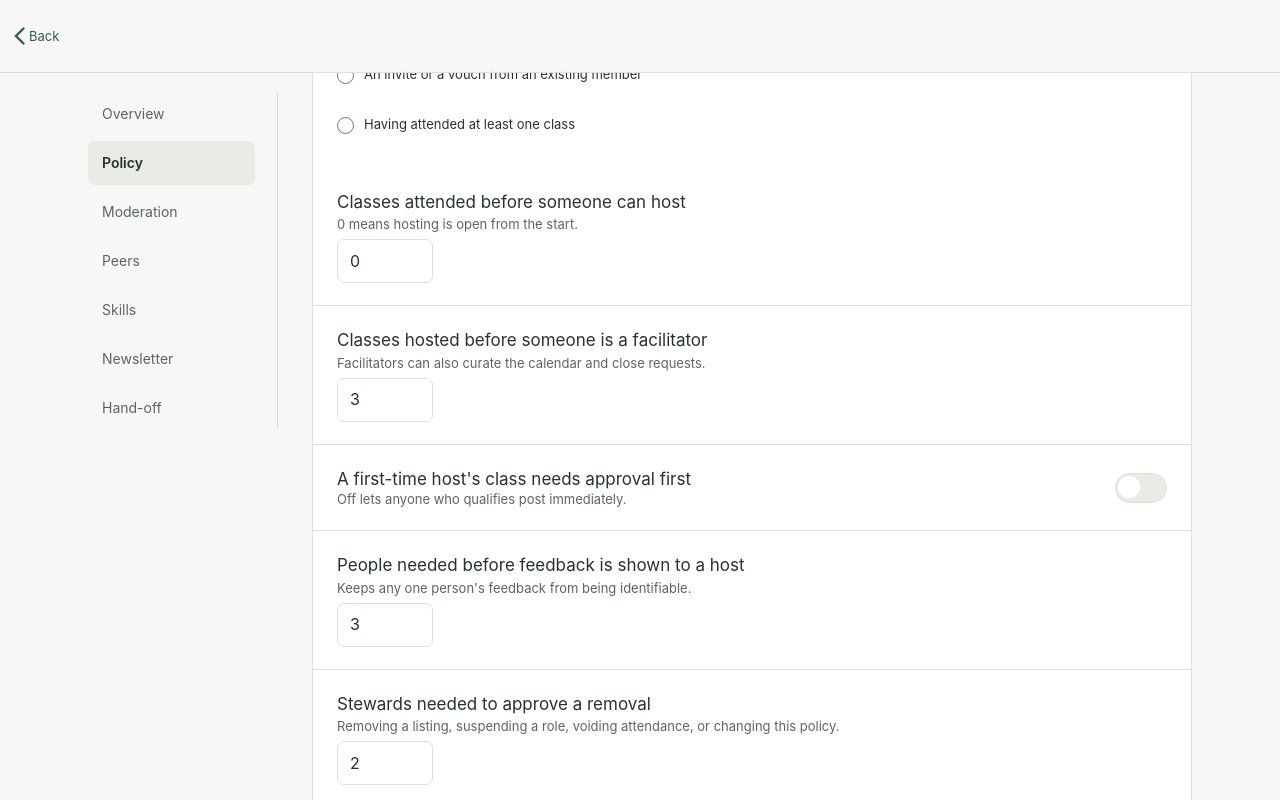
Test: PolicyScreen › round-trips the thresholds object from the server into the form and back out on save
(page scrolled)
Expected: the number field labelled "Classes attended before someone can host" holds "0", x1=337 y1=239 x2=433 y2=283
Change one threshold and save.
Replace the text in the number field labelled "Classes hosted before someone is a facilitator" with "5": (385, 400) x1=337 y1=378 x2=433 y2=422
(page scrolled)
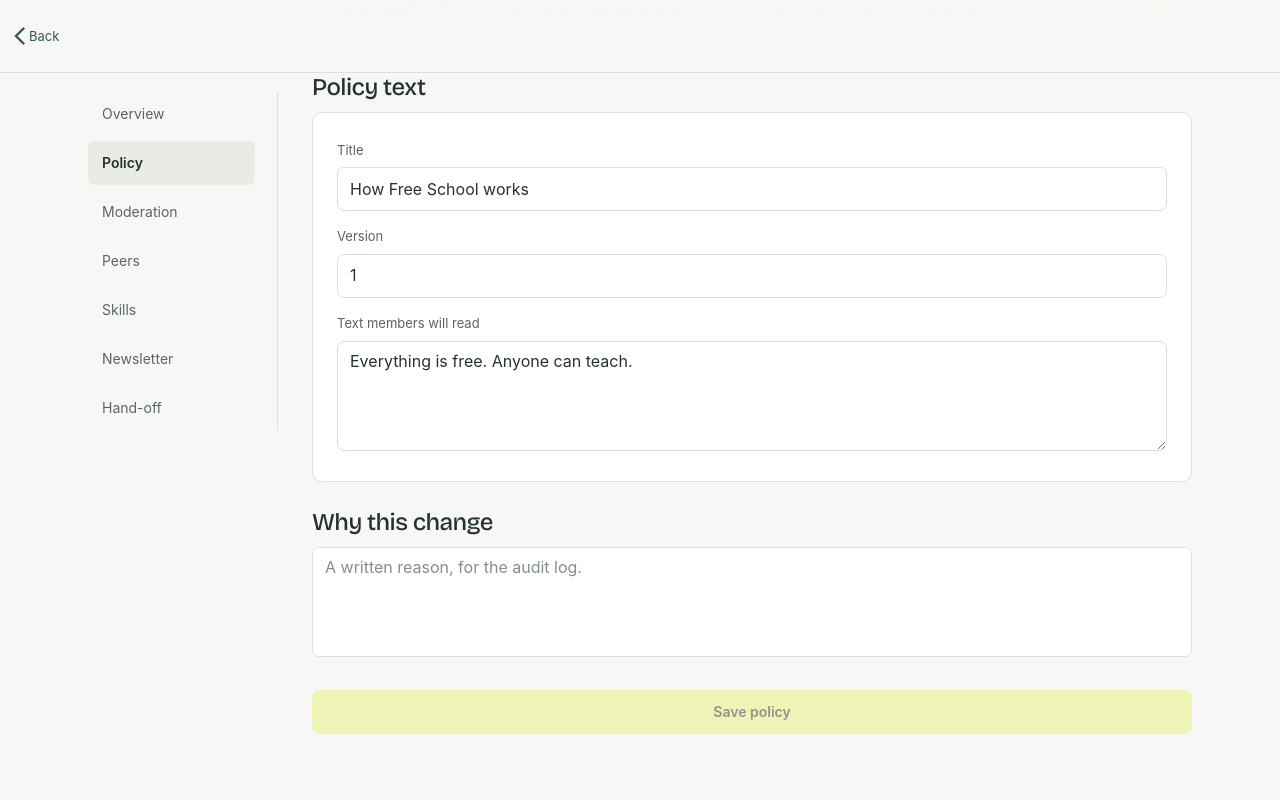
In the text box with placeholder "A written reason, for the audit log.": (752, 602) x1=312 y1=547 x2=1192 y2=657, type "Raising the bar for facilitators."
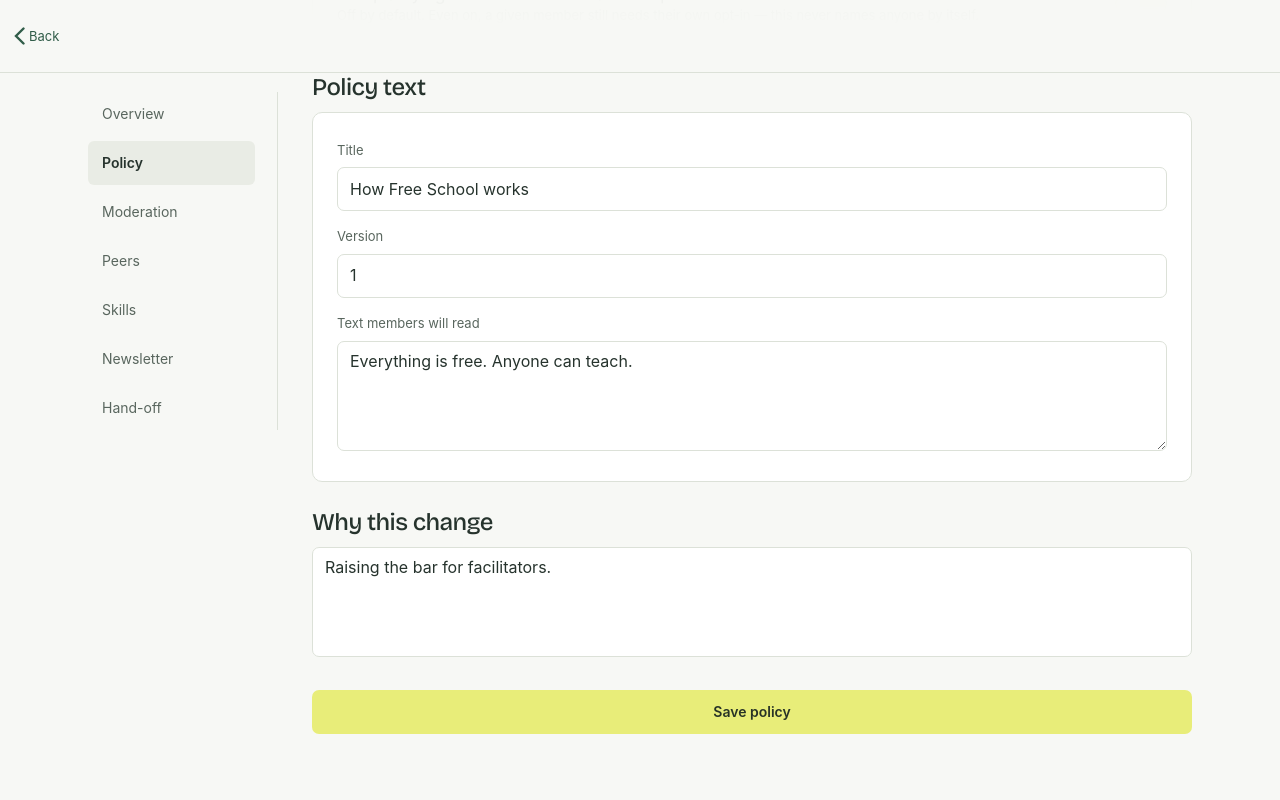
Click the button "Save policy": (752, 712) x1=312 y1=690 x2=1192 y2=734
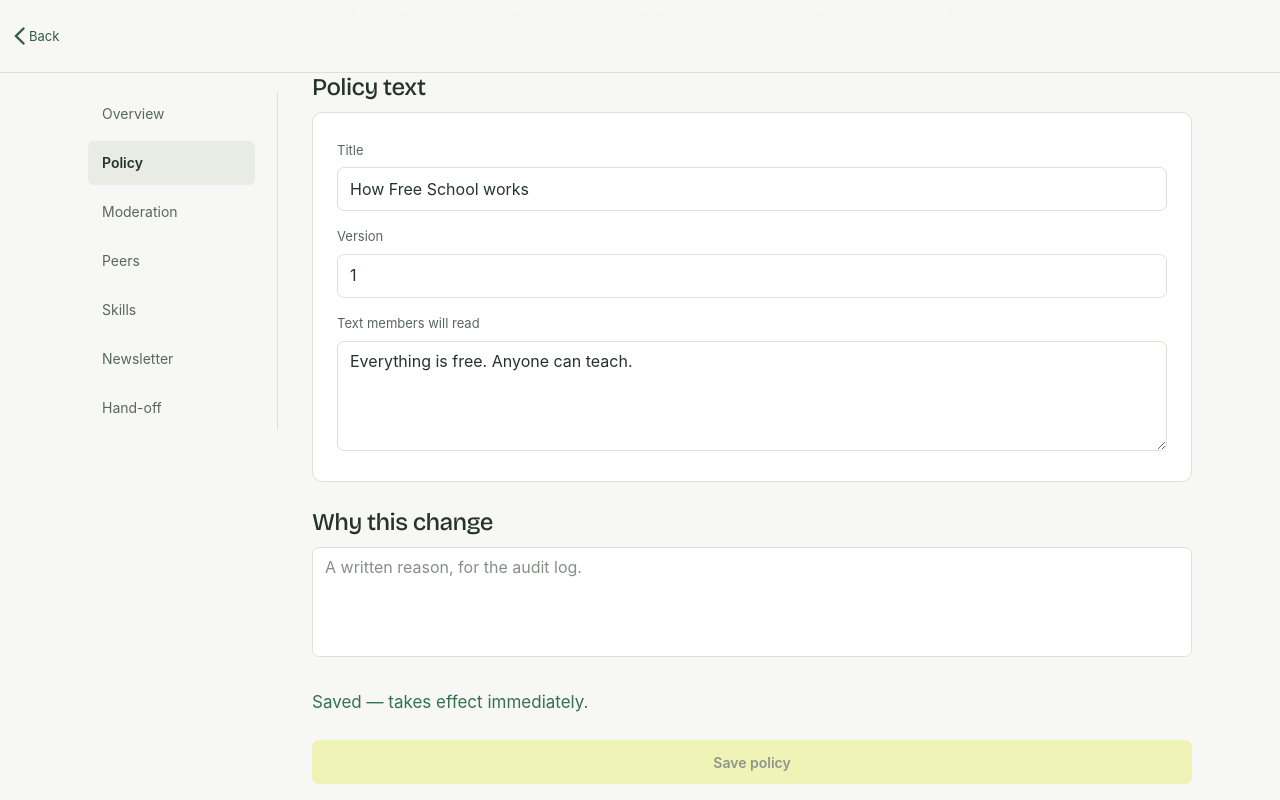
Result: the text "Saved — takes effect immediately." is shown at x1=312 y1=692 x2=588 y2=712
